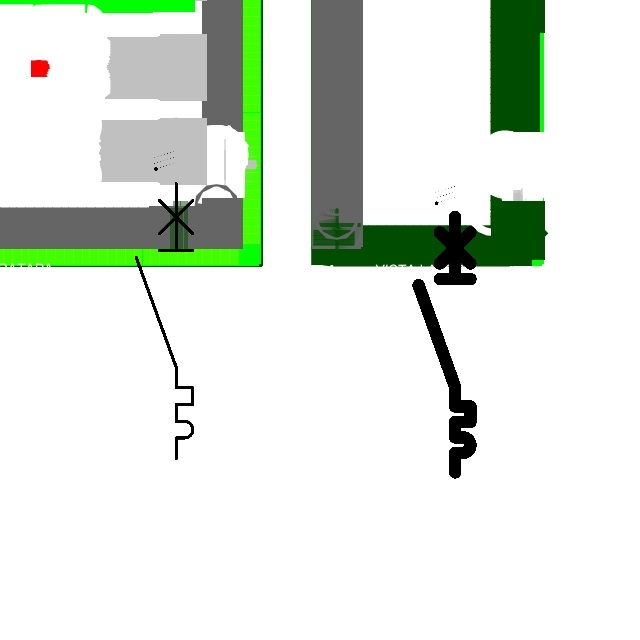interruptor_termomagnetico: (129, 176, 200, 466), (412, 210, 477, 478)
